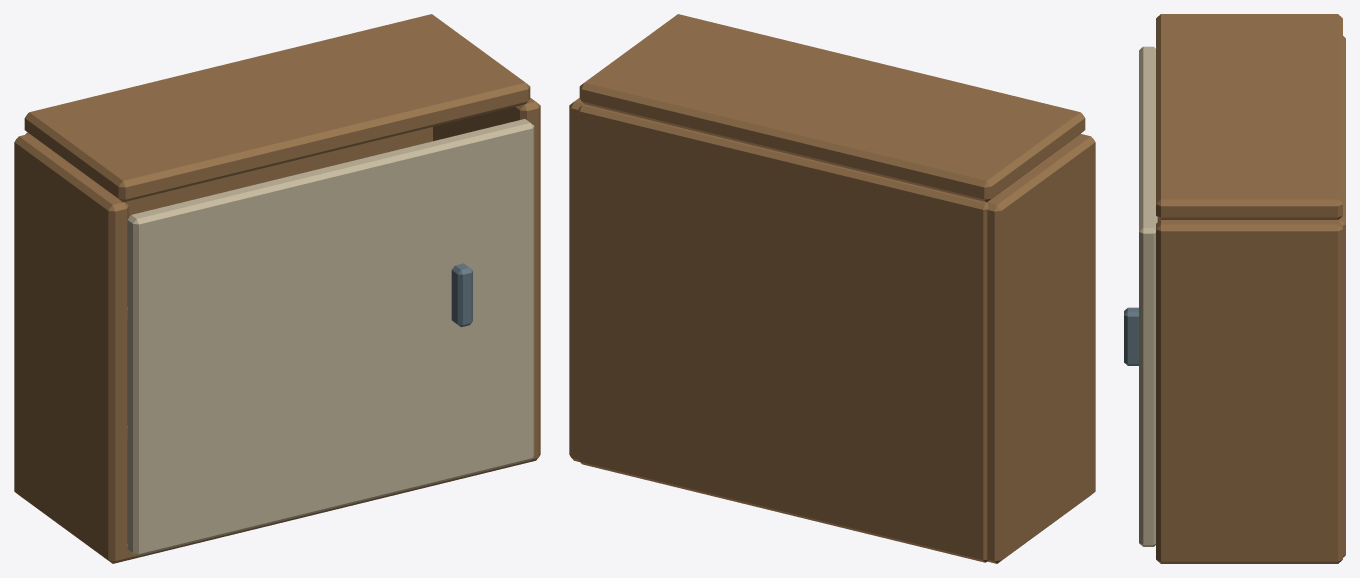
File: objects-cabinet.lod0.glb
3 renders of one model, left to right at view 1: azimuth 30°, elevation 25°; view 2: azimuth 150°, elevation 25°; view 3: azimuth 270°, elevation 25°, orthographic. The views are drawn at different scales.
Visible parts, largest first — view 1: objects-cabinet__door, objects-cabinet__body; view 2: objects-cabinet__body; view 3: objects-cabinet__body, objects-cabinet__door.
Part boxes in pixels (bbox=[...]): objects-cabinet__door: bbox=[127, 119, 534, 556]; objects-cabinet__body: bbox=[14, 14, 540, 563]; objects-cabinet__body: bbox=[569, 14, 1095, 563]; objects-cabinet__body: bbox=[1156, 14, 1345, 563]; objects-cabinet__door: bbox=[1124, 46, 1157, 546].
Size of the model in its own units: 1.26 by 1.06 by 0.5925.
